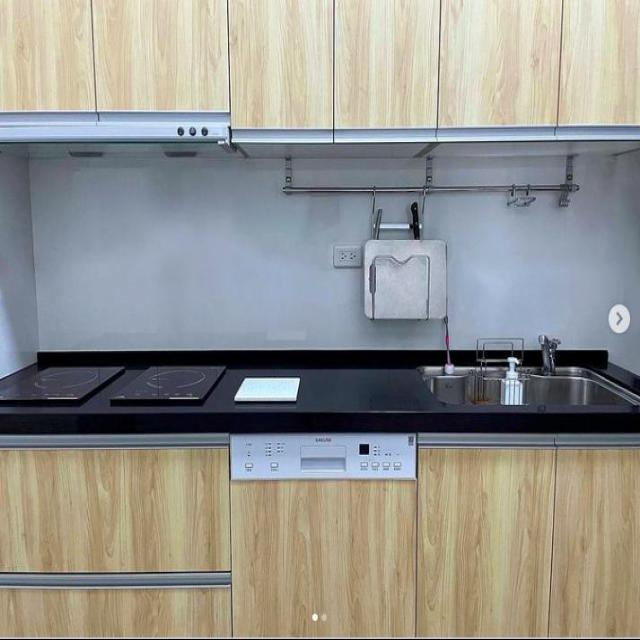dishwasher: (229, 431, 415, 639)
